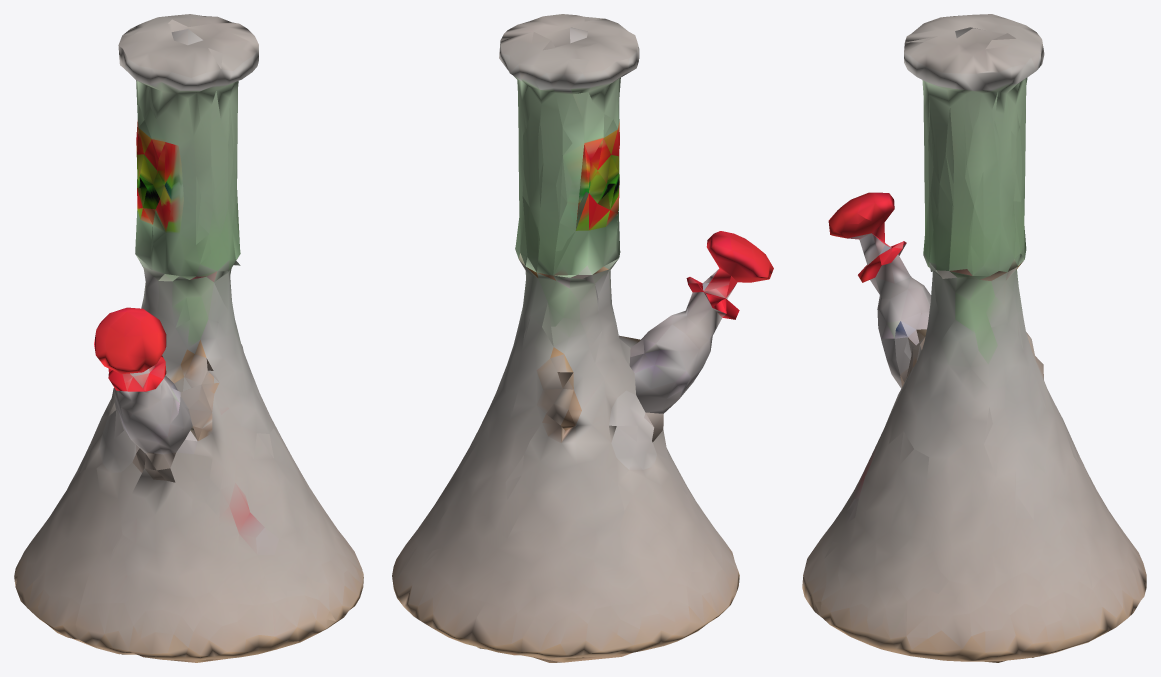
The model's file is bong.glb.
3 renders of one model, left to right at view 1: azimuth 30°, elevation 25°; view 2: azimuth 150°, elevation 25°; view 3: azimuth 270°, elevation 25°, orthographic.
Visible parts, largest first — view 1: texture_pbr_v128; view 2: texture_pbr_v128; view 3: texture_pbr_v128.
Part boxes in pixels (x1=…): texture_pbr_v128: x1=14, y1=14, x2=363, y2=662; texture_pbr_v128: x1=392, y1=14, x2=773, y2=662; texture_pbr_v128: x1=802, y1=14, x2=1146, y2=662.
Bounding box in the file's own units: 0.5549 × 1.02 × 0.5467.
1 material, 1 textured.
